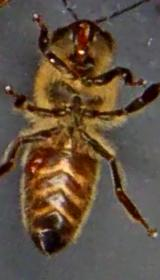varroa_mite: (19, 135, 48, 184)
